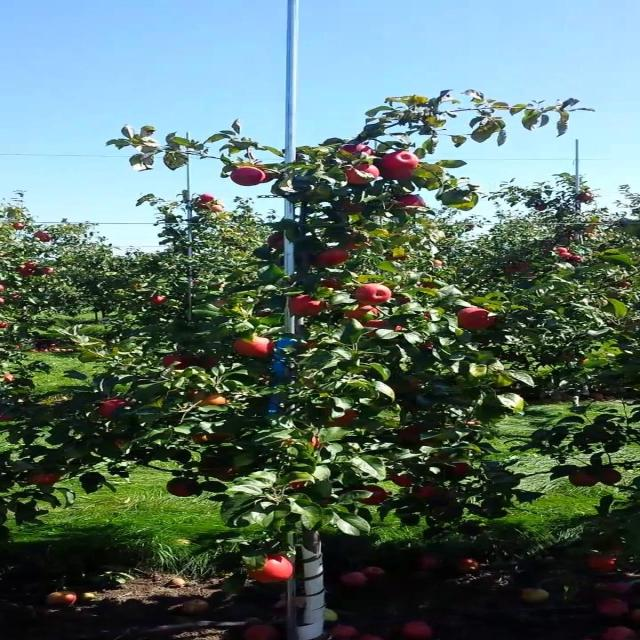apple: (248, 556, 297, 584), (234, 336, 277, 358), (461, 308, 498, 331), (355, 284, 393, 304), (291, 296, 327, 317), (234, 168, 270, 188), (362, 320, 405, 336), (348, 164, 380, 185), (99, 400, 132, 419), (589, 552, 619, 572), (383, 152, 420, 168), (319, 248, 350, 267), (397, 196, 427, 215), (326, 412, 361, 428), (348, 304, 380, 320), (362, 488, 391, 505), (170, 480, 197, 498), (163, 356, 192, 372), (568, 472, 597, 488), (28, 472, 60, 486), (340, 144, 377, 156), (291, 436, 322, 450), (383, 168, 418, 180), (397, 428, 425, 443), (191, 432, 226, 444), (348, 236, 372, 252), (35, 472, 62, 486), (604, 468, 624, 486), (340, 200, 364, 214), (184, 388, 208, 402), (298, 436, 322, 450), (362, 320, 391, 331), (397, 380, 423, 392), (198, 356, 220, 370), (205, 396, 229, 408), (319, 280, 345, 291), (220, 468, 240, 482), (390, 476, 412, 488), (419, 488, 439, 500), (454, 464, 473, 476), (269, 236, 284, 251), (191, 436, 219, 444), (291, 480, 308, 492), (148, 296, 169, 305), (305, 340, 320, 349), (397, 296, 412, 305), (390, 324, 405, 333), (419, 344, 434, 352), (468, 420, 482, 428), (6, 376, 16, 384), (6, 416, 14, 420)
